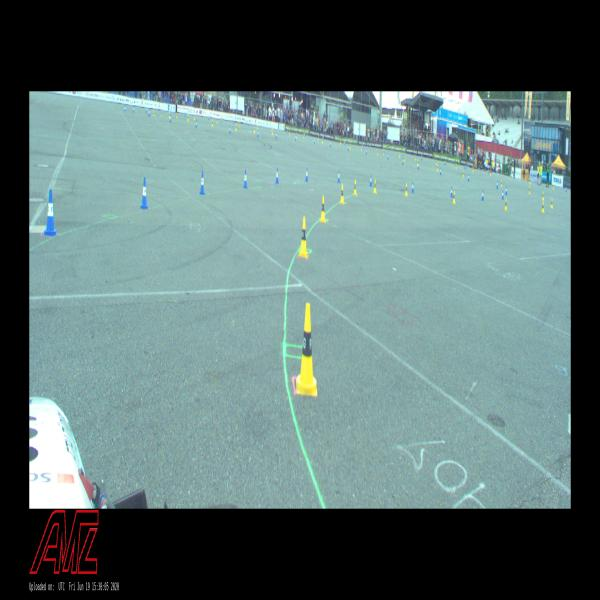blue_cone: (44, 190, 58, 235), (140, 178, 148, 210), (200, 172, 205, 194), (244, 169, 248, 188), (275, 168, 279, 183), (305, 168, 308, 181), (450, 186, 453, 198), (481, 190, 484, 200), (338, 170, 340, 183), (370, 174, 372, 186), (496, 180, 499, 188), (505, 187, 508, 195), (502, 189, 504, 200), (412, 182, 414, 192)
yellow_cone: (296, 302, 318, 397), (298, 217, 308, 258), (320, 196, 326, 222), (340, 184, 345, 204), (353, 179, 357, 195), (373, 179, 377, 193), (405, 183, 408, 196), (453, 191, 456, 204), (504, 198, 507, 211), (528, 186, 531, 194), (542, 202, 544, 213), (551, 198, 553, 208), (542, 192, 544, 200), (501, 180, 502, 187)
